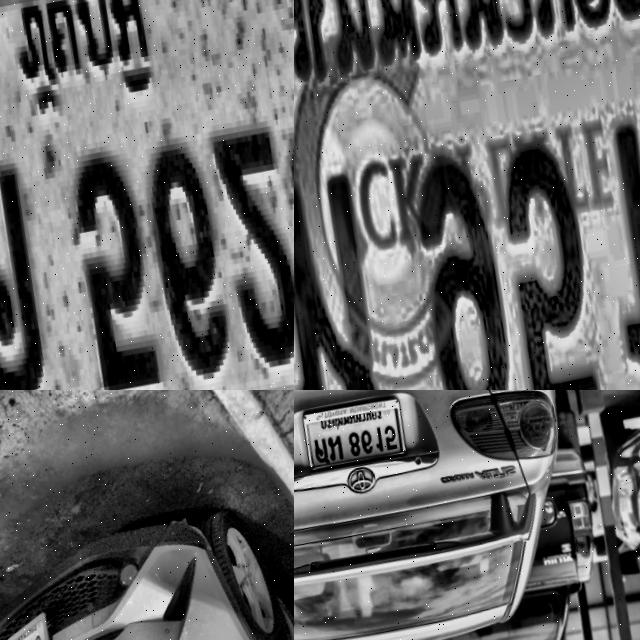license-plate: (294, 0, 640, 390), (0, 0, 294, 390), (299, 390, 415, 475), (0, 603, 62, 640)
